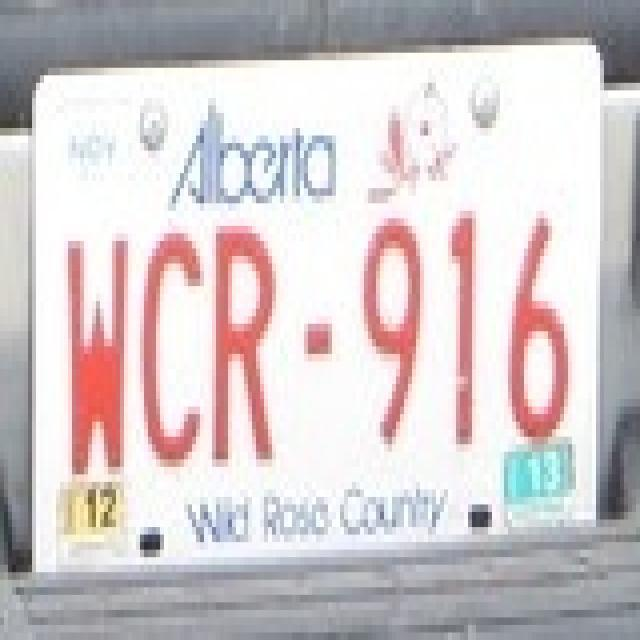licenseplate: (29, 46, 606, 548)
